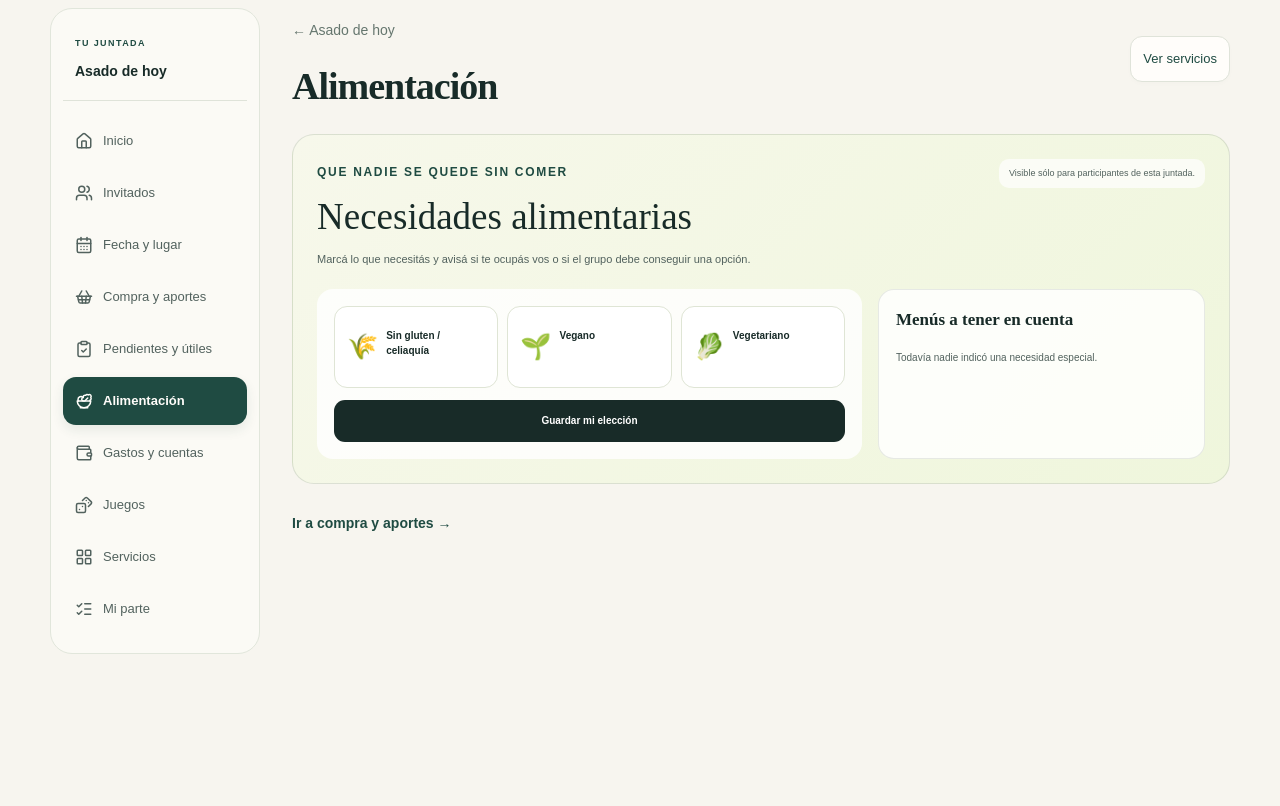
servicios con pantallas propias › permite alimentación sin fecha y conserva la elección sin guardar al navegar
Click the checkbox labelled "🥬 Vegetariano" at (763, 347), box [681, 306, 845, 388]
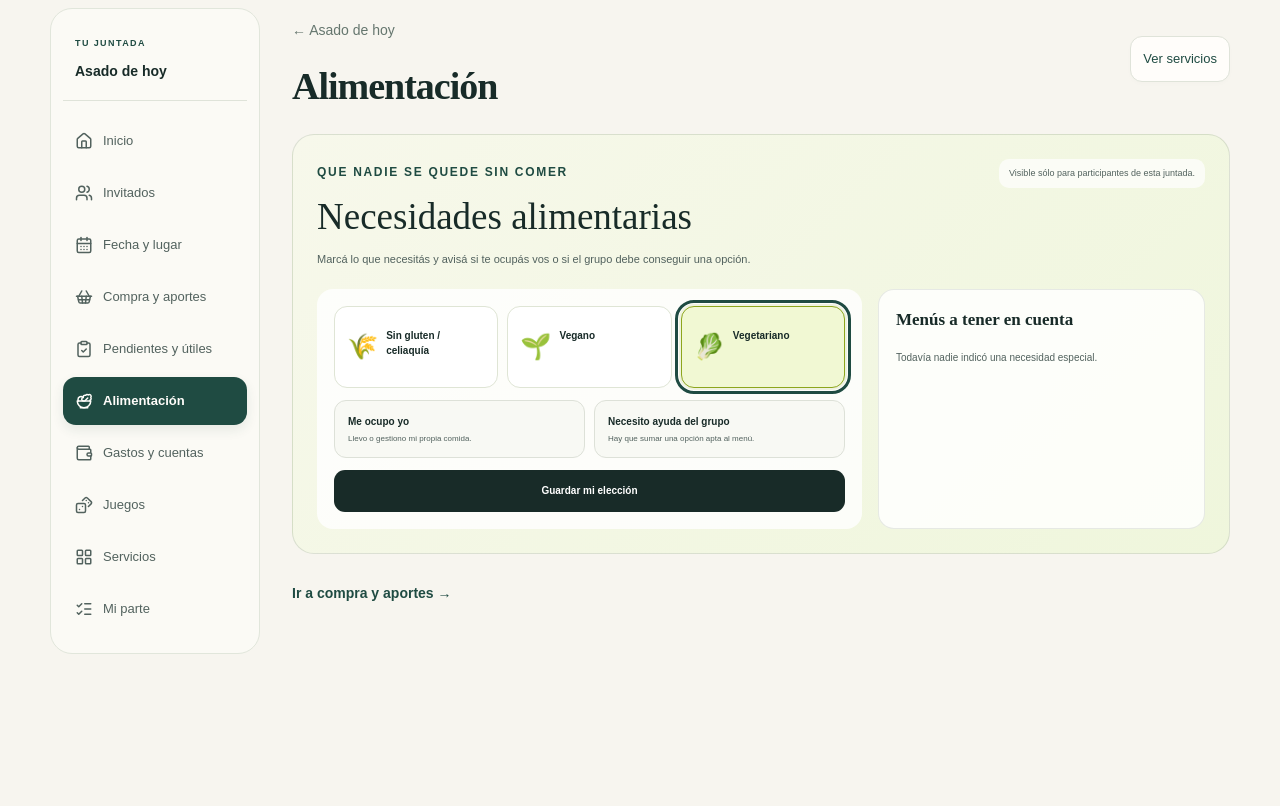
Click the radio button labelled "Me ocupo yo Llevo o gestiono mi propia comida." at (460, 429), box [334, 400, 585, 458]
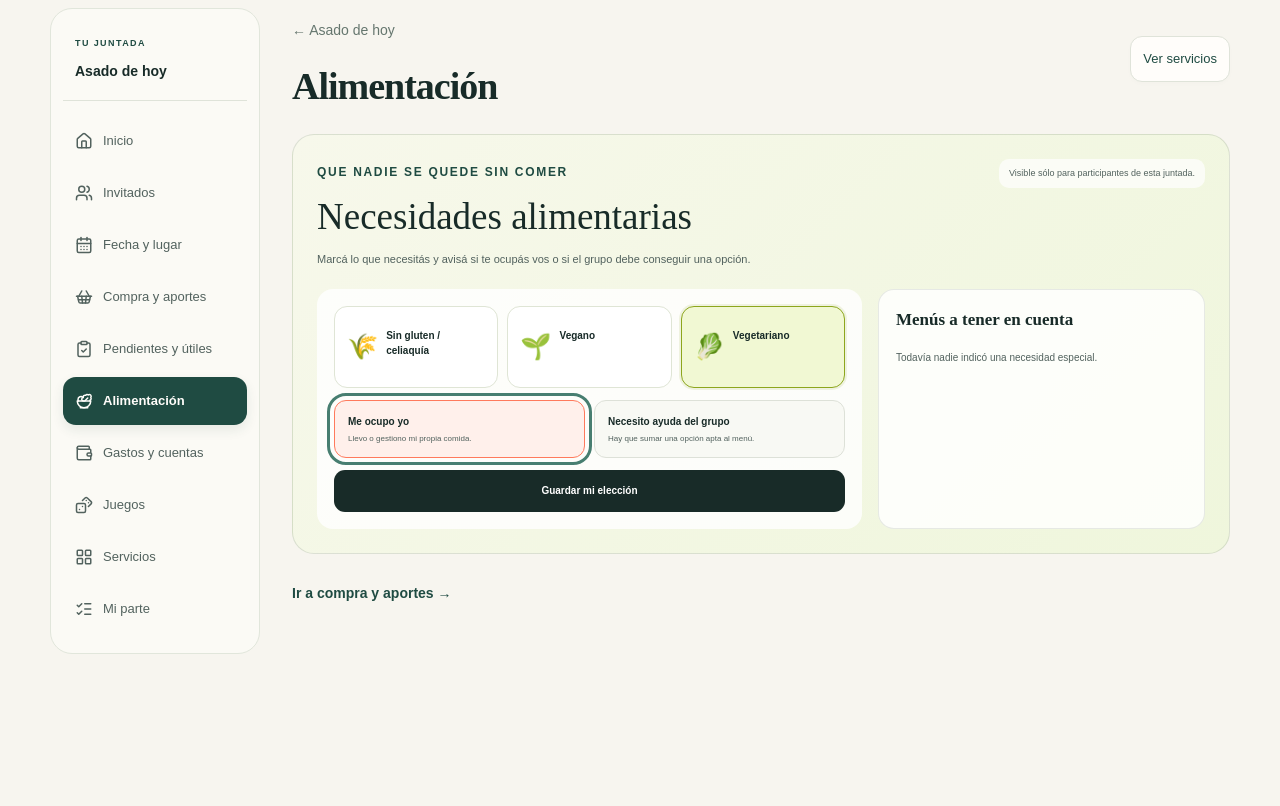
Click the link "← Asado de hoy" at (343, 30), box [292, 22, 395, 38]
(page scrolled)
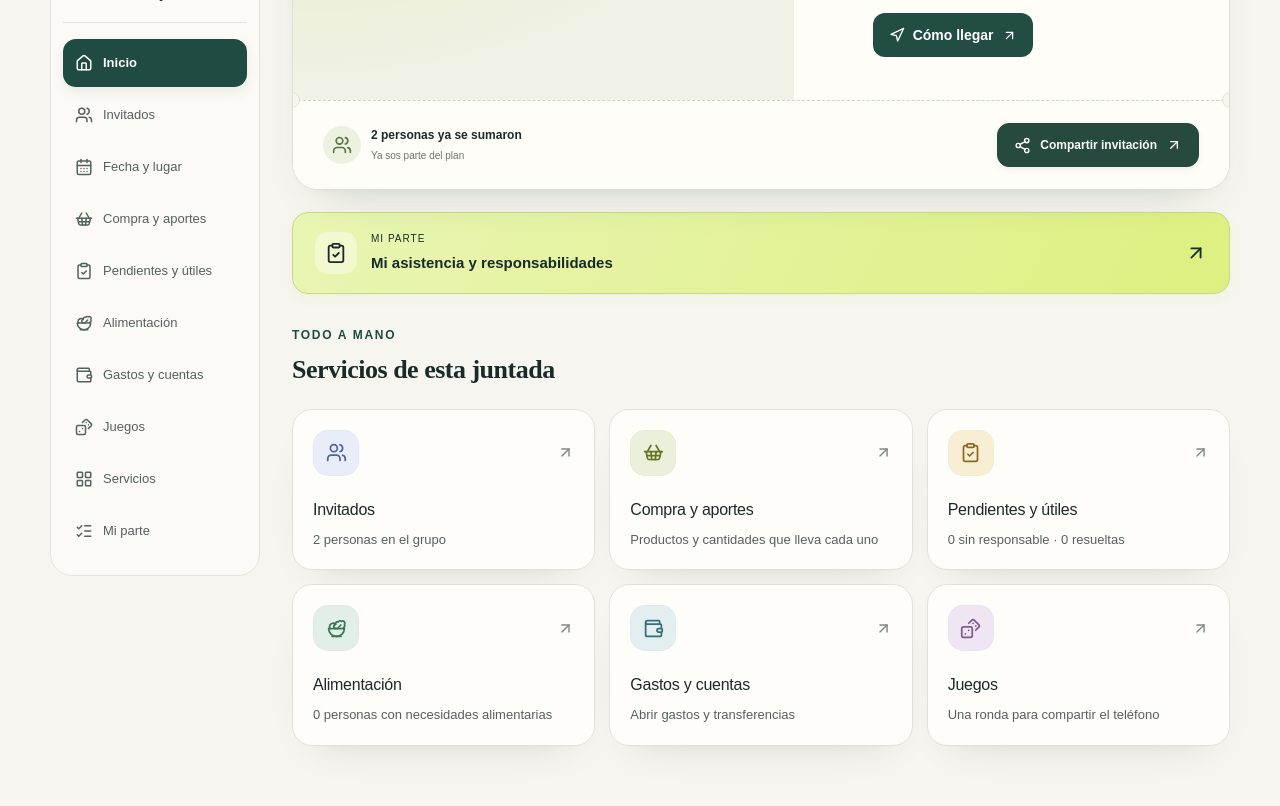
Click the link "Alimentación 0 personas con necesidades alimentarias" at (336, 628), box [292, 584, 595, 746]
(page scrolled)
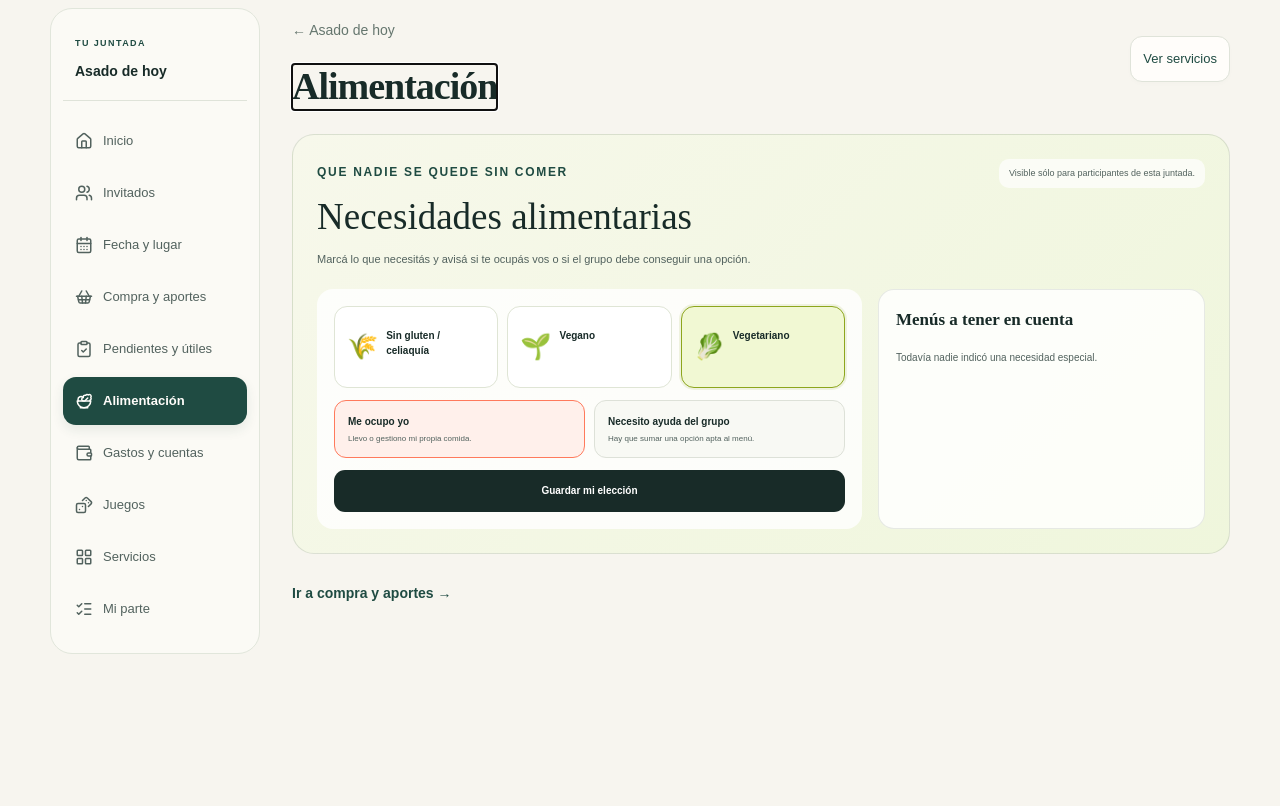
Check: the checkbox labelled "🥬 Vegetariano" is checked, box [681, 306, 845, 388]
